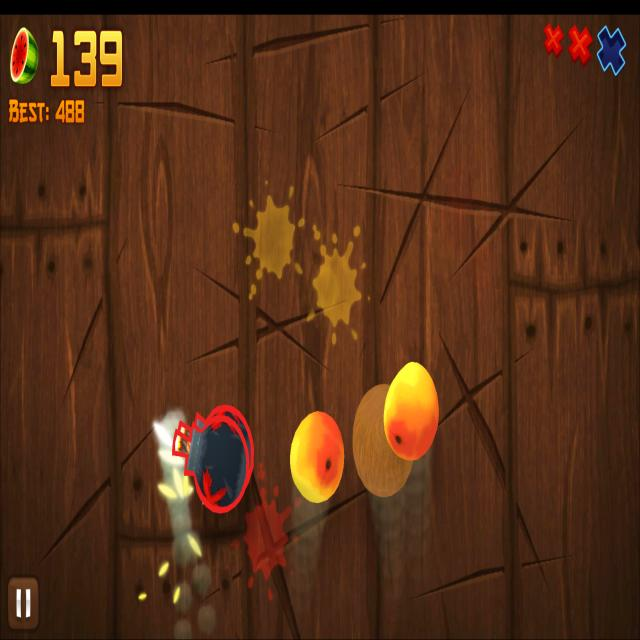bomb: (173, 416, 249, 512), (177, 404, 252, 484)
fruit: (353, 385, 412, 496), (385, 362, 439, 461), (291, 412, 344, 502)
